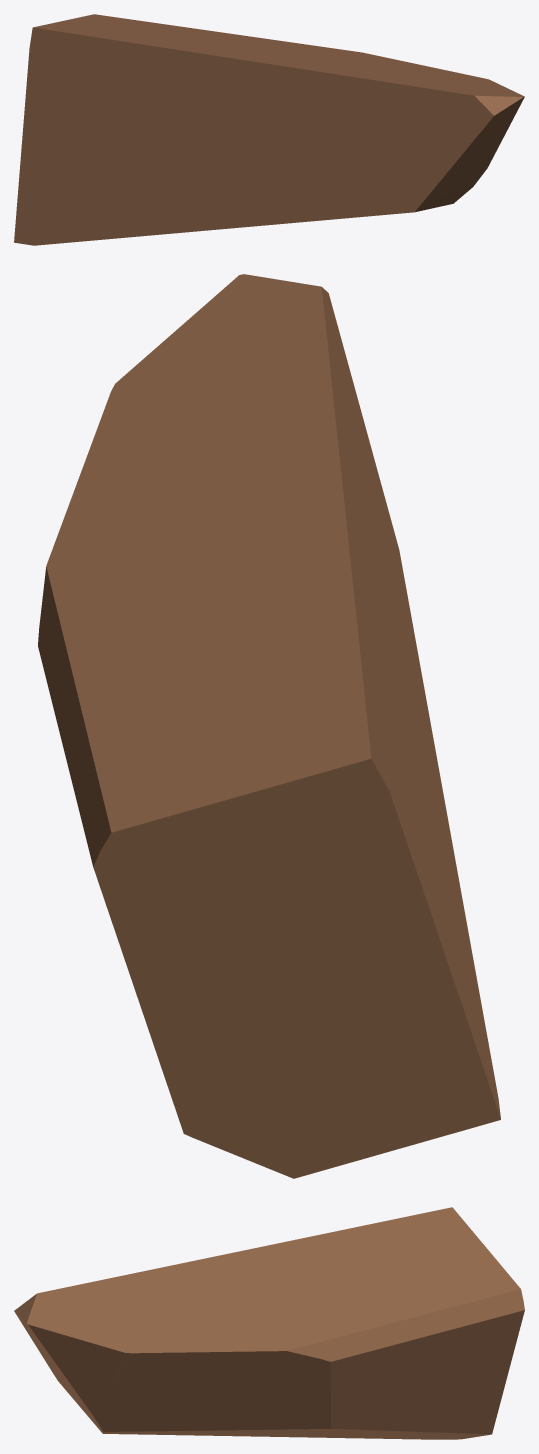
Rendered from WoodCellCube_003_cell_041.fbx.
The picture shows the model from 3 angles, top to bottom: view 1: azimuth 30°, elevation 25°; view 2: azimuth 150°, elevation 25°; view 3: azimuth 270°, elevation 25°; orthographic projection. The views are drawn at different scales.
Visible parts, largest first — view 1: WoodCellCube_003_cell_041; view 2: WoodCellCube_003_cell_041; view 3: WoodCellCube_003_cell_041.
Boxes of the visible parts, x1=… form: WoodCellCube_003_cell_041: x1=14, y1=14, x2=524, y2=245; WoodCellCube_003_cell_041: x1=38, y1=274, x2=500, y2=1178; WoodCellCube_003_cell_041: x1=14, y1=1207, x2=524, y2=1439.
Size of the model in its own units: 1.07 by 0.5602 by 0.8054.
1 material, 1 textured.
